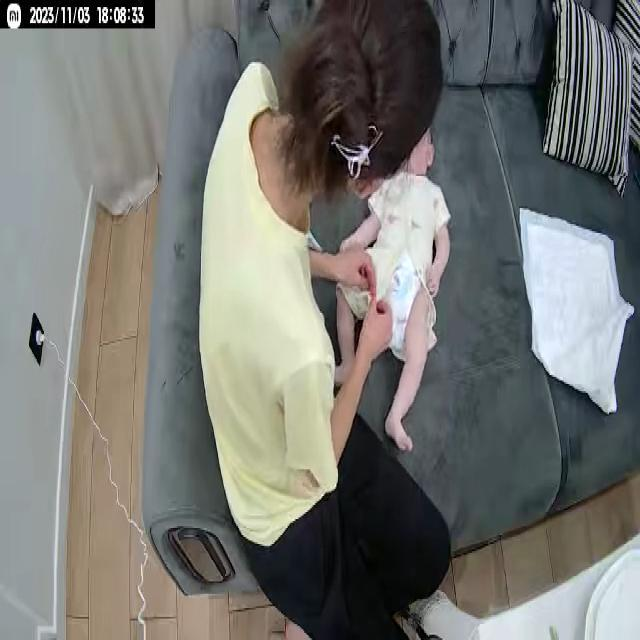baby: (328, 113, 452, 455)
